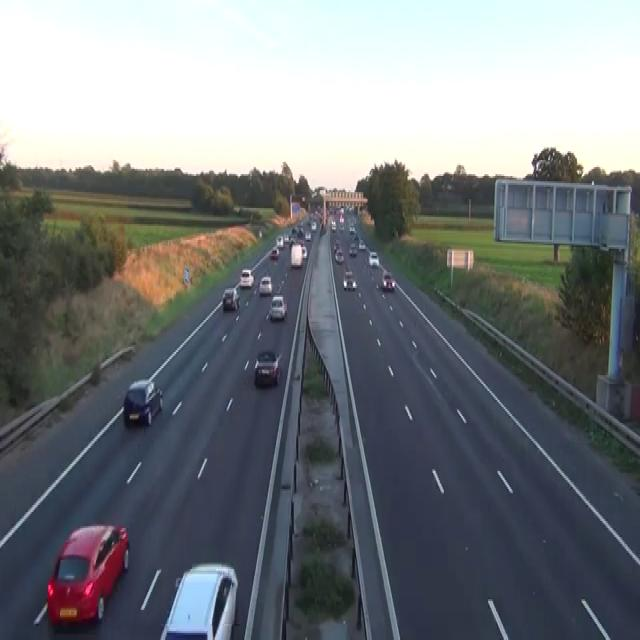Car: (46, 522, 129, 628), (160, 562, 238, 638), (123, 378, 163, 426), (253, 348, 282, 386), (269, 295, 287, 320), (222, 286, 240, 311), (239, 268, 254, 288), (343, 268, 356, 290), (381, 272, 395, 290), (259, 276, 272, 295), (296, 240, 307, 258), (369, 250, 379, 266), (269, 246, 279, 260), (335, 249, 344, 263), (332, 238, 341, 251), (348, 242, 356, 256), (275, 235, 283, 247), (319, 222, 326, 235), (301, 244, 307, 258), (283, 231, 289, 244), (358, 238, 365, 249), (304, 229, 311, 240), (297, 226, 304, 236), (349, 224, 355, 235), (233, 204, 240, 213), (310, 221, 316, 231), (339, 206, 344, 217), (289, 237, 295, 246), (339, 221, 344, 231), (331, 221, 336, 231), (258, 228, 262, 238), (308, 215, 312, 224)
Truck: (290, 244, 302, 266)
